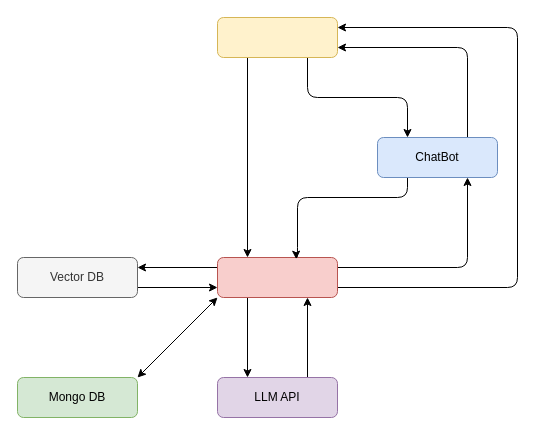
Some shapes in this 543 by 435 pixel diagram are drawn without their labels. The centre of each missing label's shape, as x and y in pixels:
GAIA API: the point at 277,277
User: the point at 277,37
